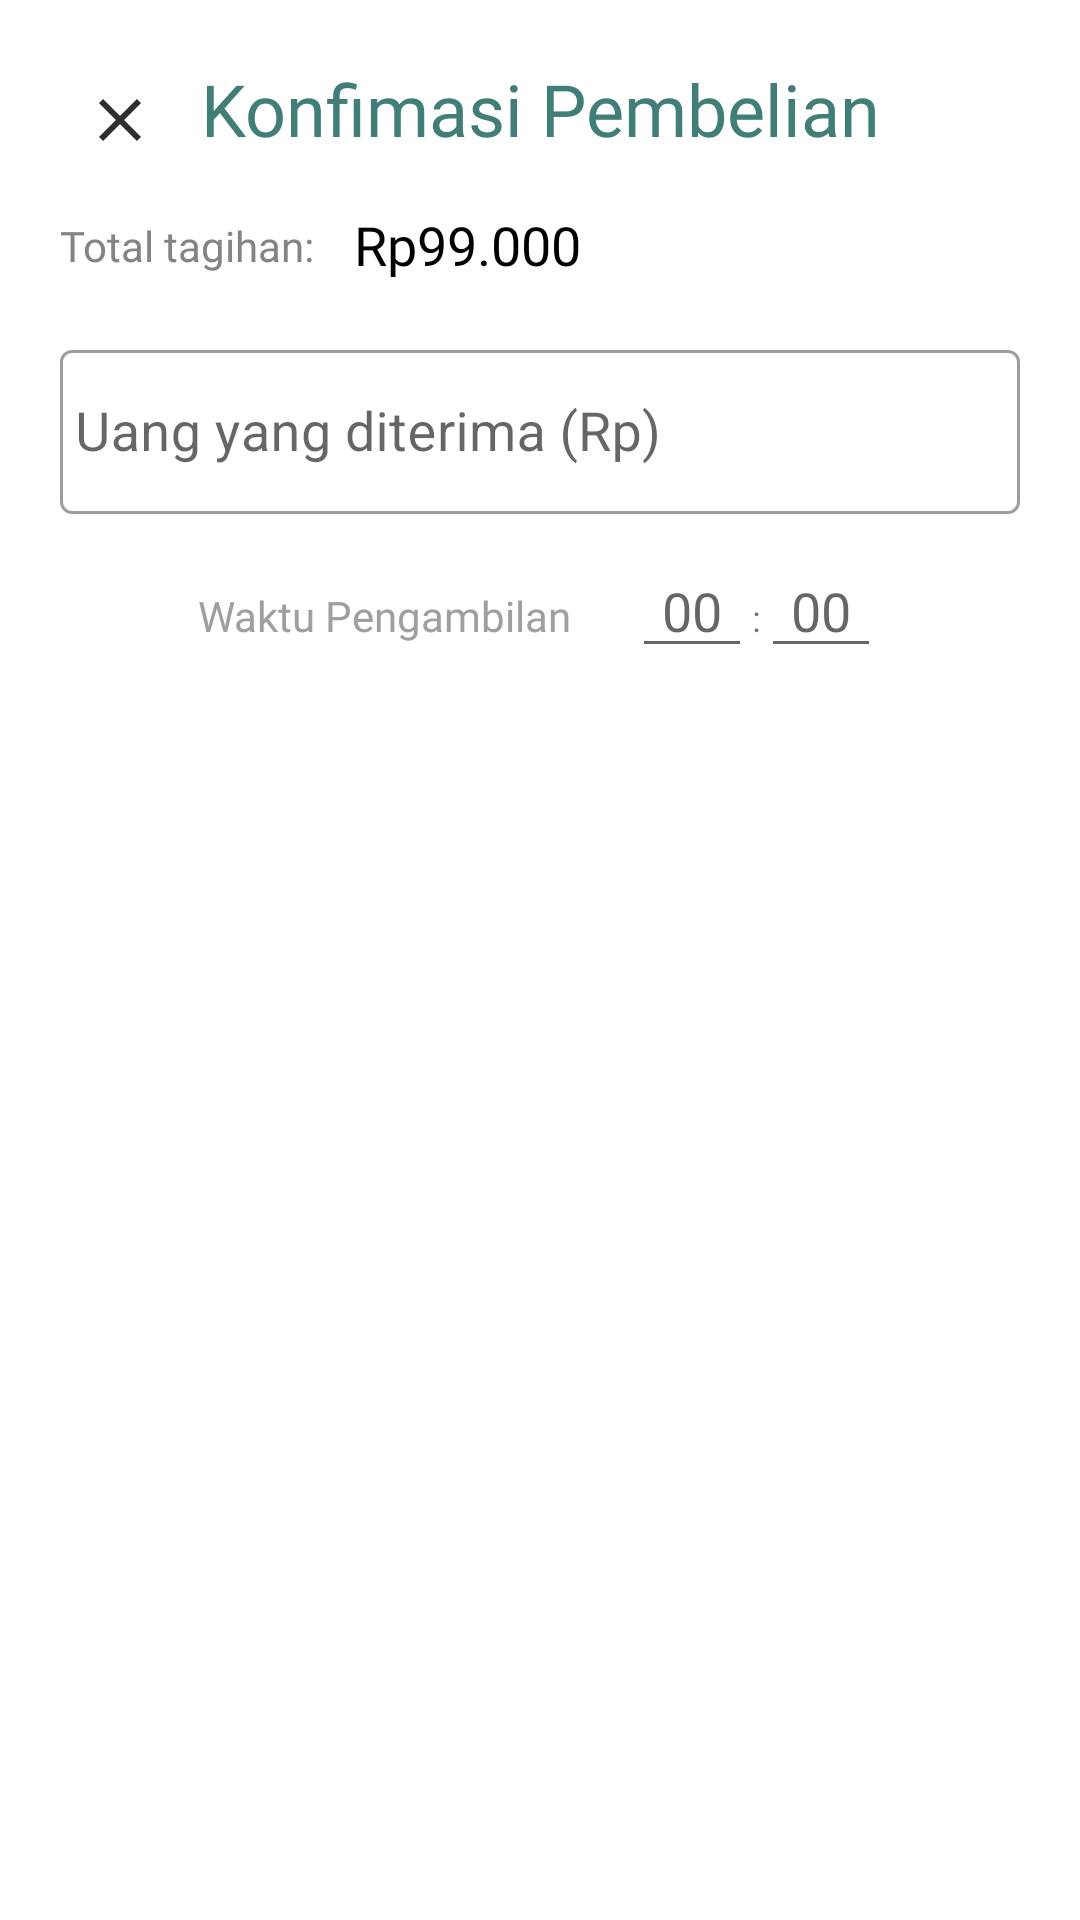

Point at icon controls on the screen. Image size 1080px x 1920px, points as (x,y).
close: (120,120)
